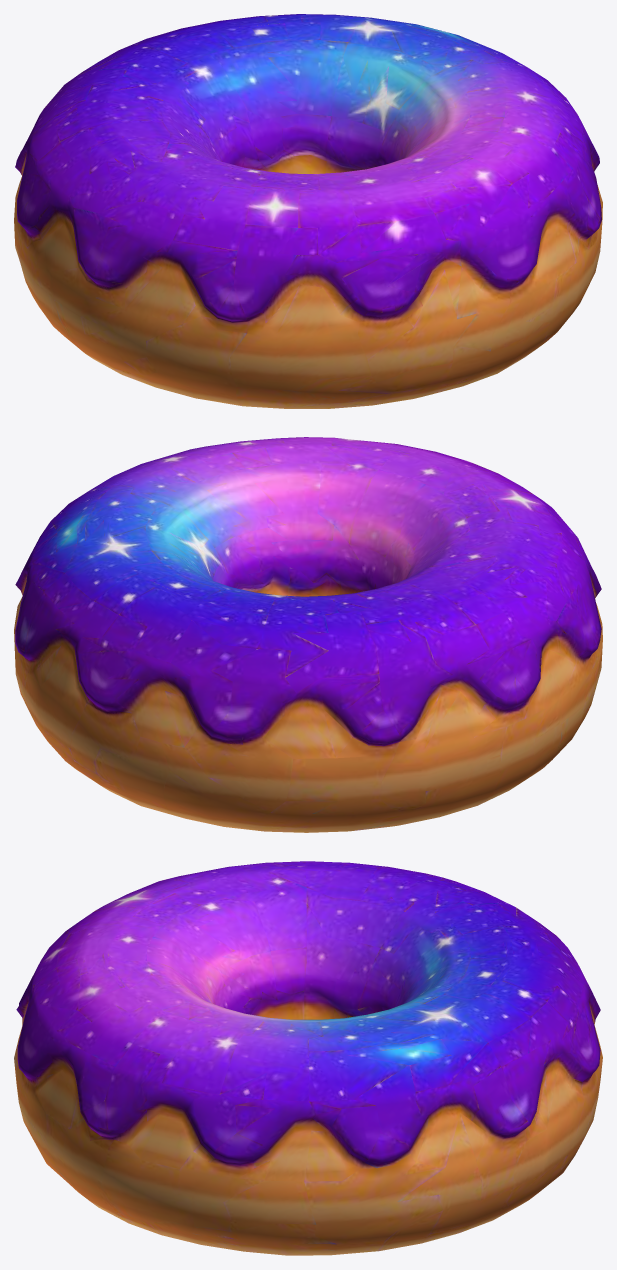
3 views of the same model, one above another, from view 1: azimuth 30°, elevation 25°; view 2: azimuth 150°, elevation 25°; view 3: azimuth 270°, elevation 25° (orthographic).
Size of the model in its own units: 1.9 by 0.7515 by 1.91.
Materials: 1 (1 with a texture image).
